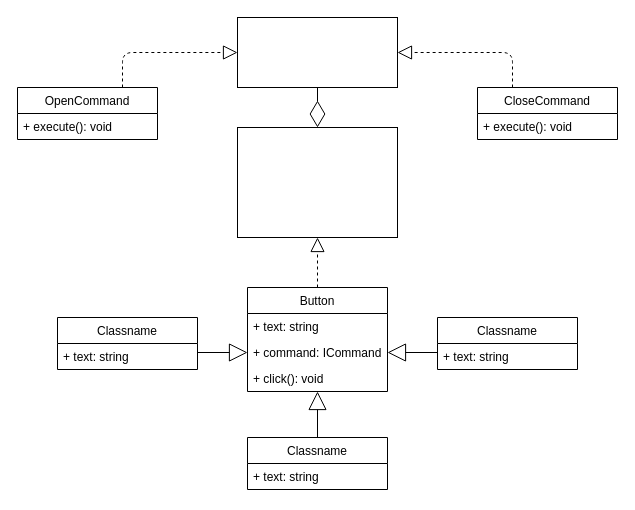
The diagram is 635 pixels wide and 510 high, and some of its shapes have lost their labels. The centre of each missing label's shape, as x and y in pixels:
<<Interface>> IButton + text: string + command: ICommand + click(): void: (x=317, y=182)
<<Interface>> ICommand + execute(): void: (x=317, y=52)
